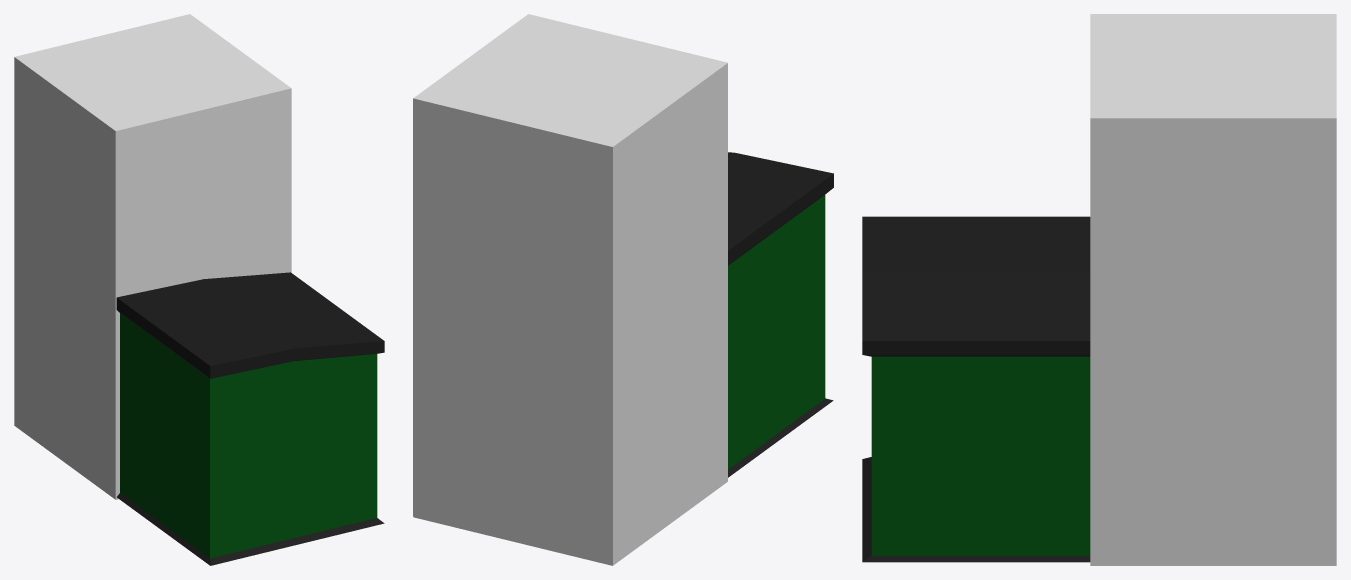
The model's file is blendermeshlibrary.glb.
3 views of the same model, side by side, from view 1: azimuth 30°, elevation 25°; view 2: azimuth 150°, elevation 25°; view 3: azimuth 270°, elevation 25° (orthographic). The views are drawn at different scales.
Visible parts, largest first — view 1: Wall, Dumpster; view 2: Wall, Dumpster; view 3: Wall, Dumpster.
Part boxes in pixels (x1=…): Wall: x1=14, y1=14, x2=291, y2=498; Dumpster: x1=116, y1=272, x2=384, y2=565; Wall: x1=413, y1=14, x2=727, y2=564; Dumpster: x1=728, y1=152, x2=833, y2=477; Wall: x1=1090, y1=14, x2=1336, y2=564; Dumpster: x1=862, y1=216, x2=1090, y2=562.
Size of the model in its own units: 0.8644 by 1.73 by 1.66.
